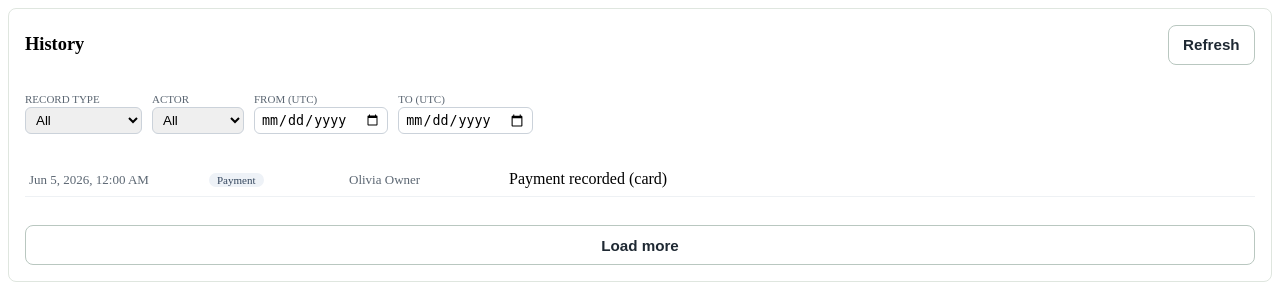
Scenario: OfficeHistorySurface › loads the next page via the cursor and appends
Click the button "Load more". click: [640, 245]
box: [25,225,1255,265]
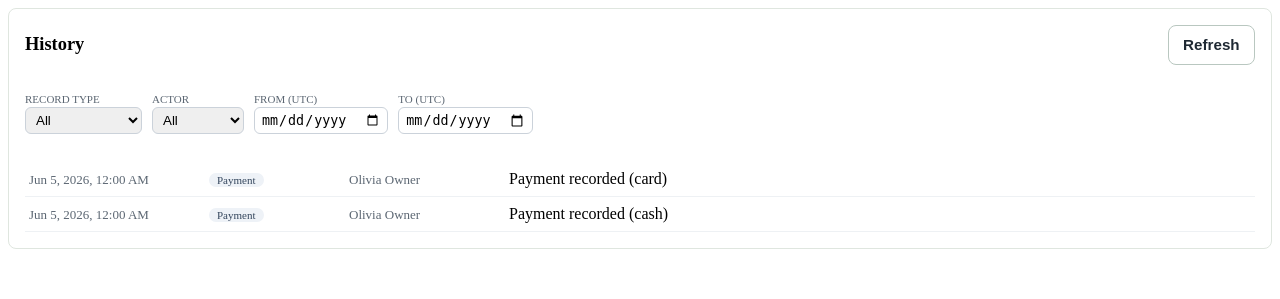
Expected: the text "Payment recorded (card)" is shown, [509,170,667,187]
Result: the text "Payment recorded (cash)" is shown at [509,205,668,222]
